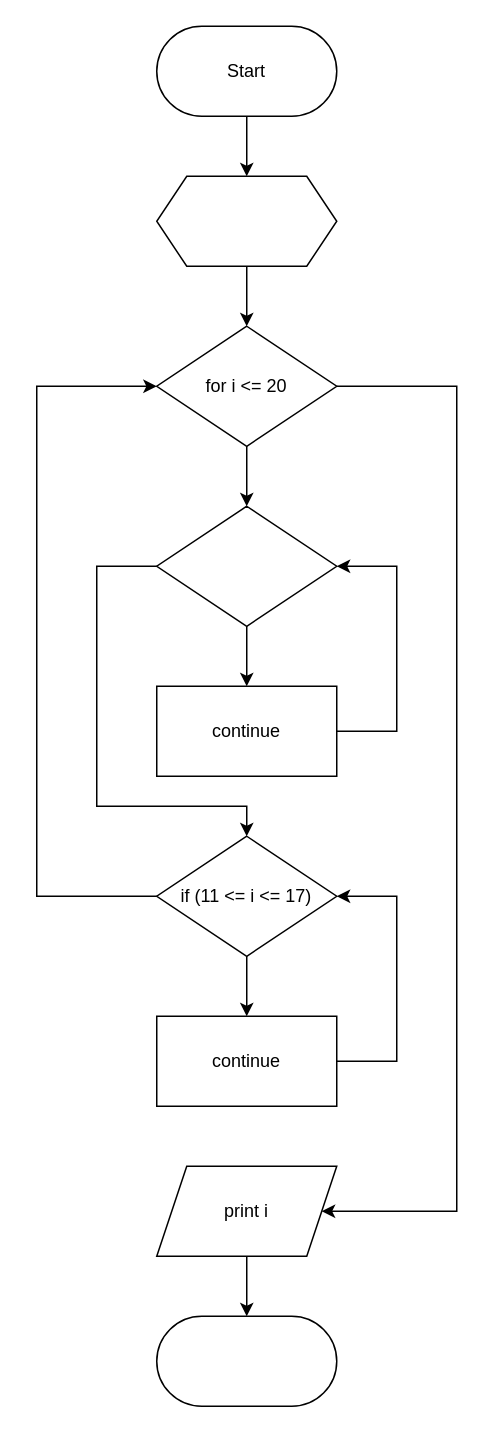
The diagram is 495 pixels wide and 1433 high, and some of its shapes have lost their labels. Each missing label, with the centre of its shape:
End: point (246, 1360)
if (i % 2 == 0): point (246, 565)
int i: point (246, 220)
